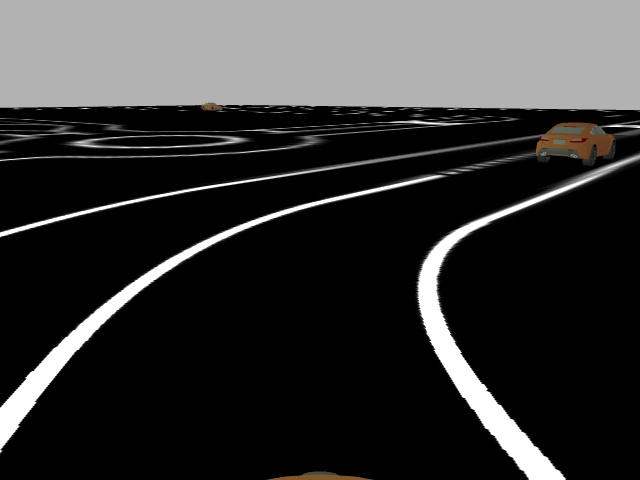obstacle_car: (531, 121, 618, 167)
